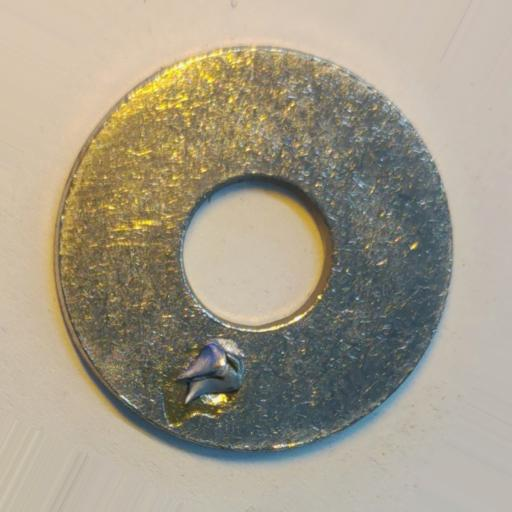excess_material: (173, 341, 245, 406)
